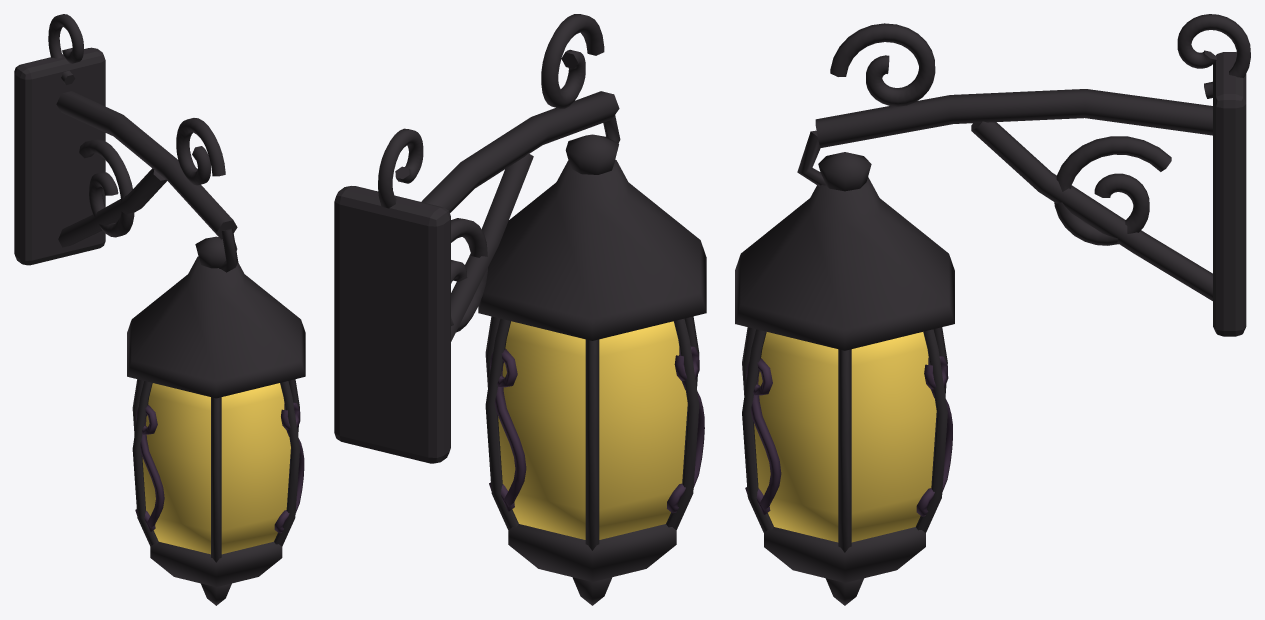
Rendered from wall_lantern.glb.
3 views of the same model, side by side, from view 1: azimuth 30°, elevation 25°; view 2: azimuth 150°, elevation 25°; view 3: azimuth 270°, elevation 25° (orthographic). The views are drawn at different scales.
Visible parts, largest first — view 1: wall_lantern; view 2: wall_lantern; view 3: wall_lantern.
Part boxes in pixels (box(x1,y1,x2,y2)): wall_lantern: box(14, 14, 305, 605); wall_lantern: box(334, 14, 706, 605); wall_lantern: box(735, 14, 1250, 605).
Size of the model in its own units: 0.19 by 0.4875 by 0.3862.
